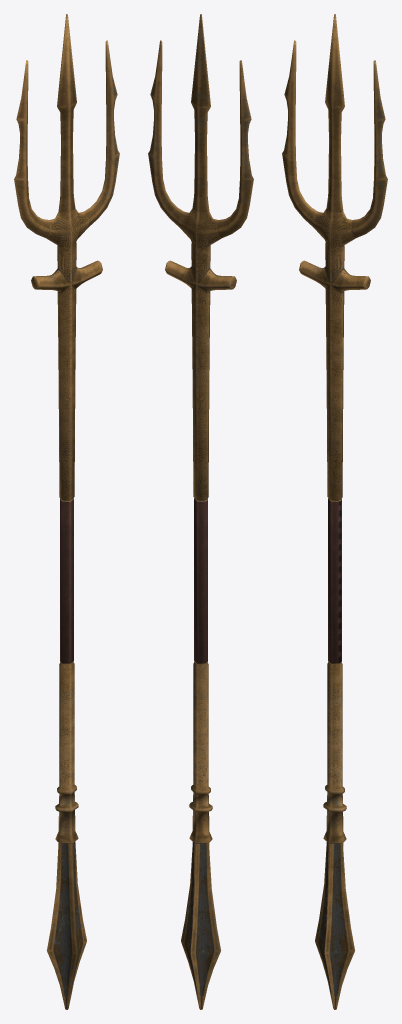
The picture shows the model from 3 angles, left to right: view 1: azimuth 30°, elevation 25°; view 2: azimuth 150°, elevation 25°; view 3: azimuth 330°, elevation 25°; orthographic projection.
Parts seen in each view (by area): view 1: Sm_Trident_01; view 2: Sm_Trident_01; view 3: Sm_Trident_01.
Boxes of the visible parts, <box> form: Sm_Trident_01: <box>14,14,119,1009</box>; Sm_Trident_01: <box>148,14,253,1009</box>; Sm_Trident_01: <box>282,14,387,1009</box>.
Bounding box in the file's own units: 1.66 × 14.88 × 0.5661.
